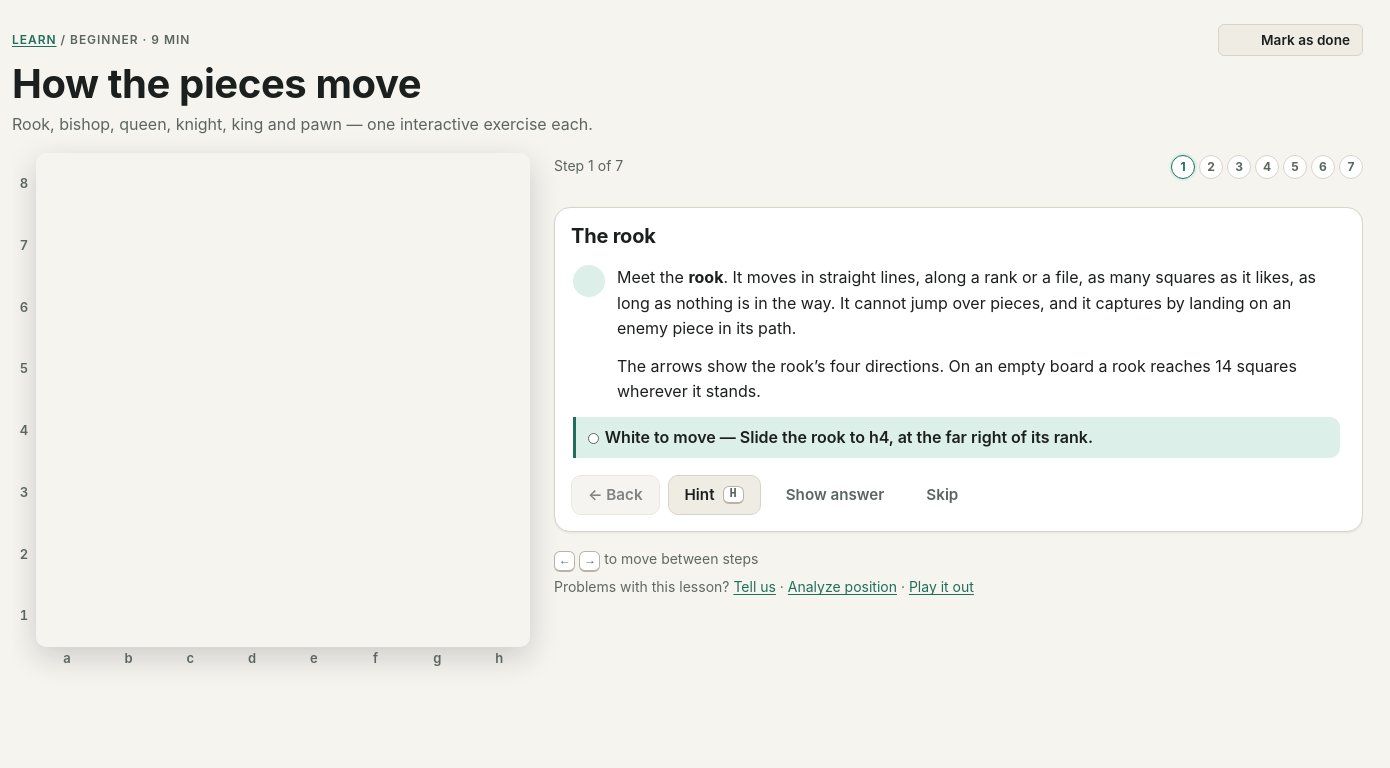
Test case: LessonPage › marks the lesson done from its header, and not done again
The width and height of the screenshot is (1390, 768).
Click the button with test id "lesson-done-toggle" at (1291, 40), box x1=1218 y1=24 x2=1363 y2=56
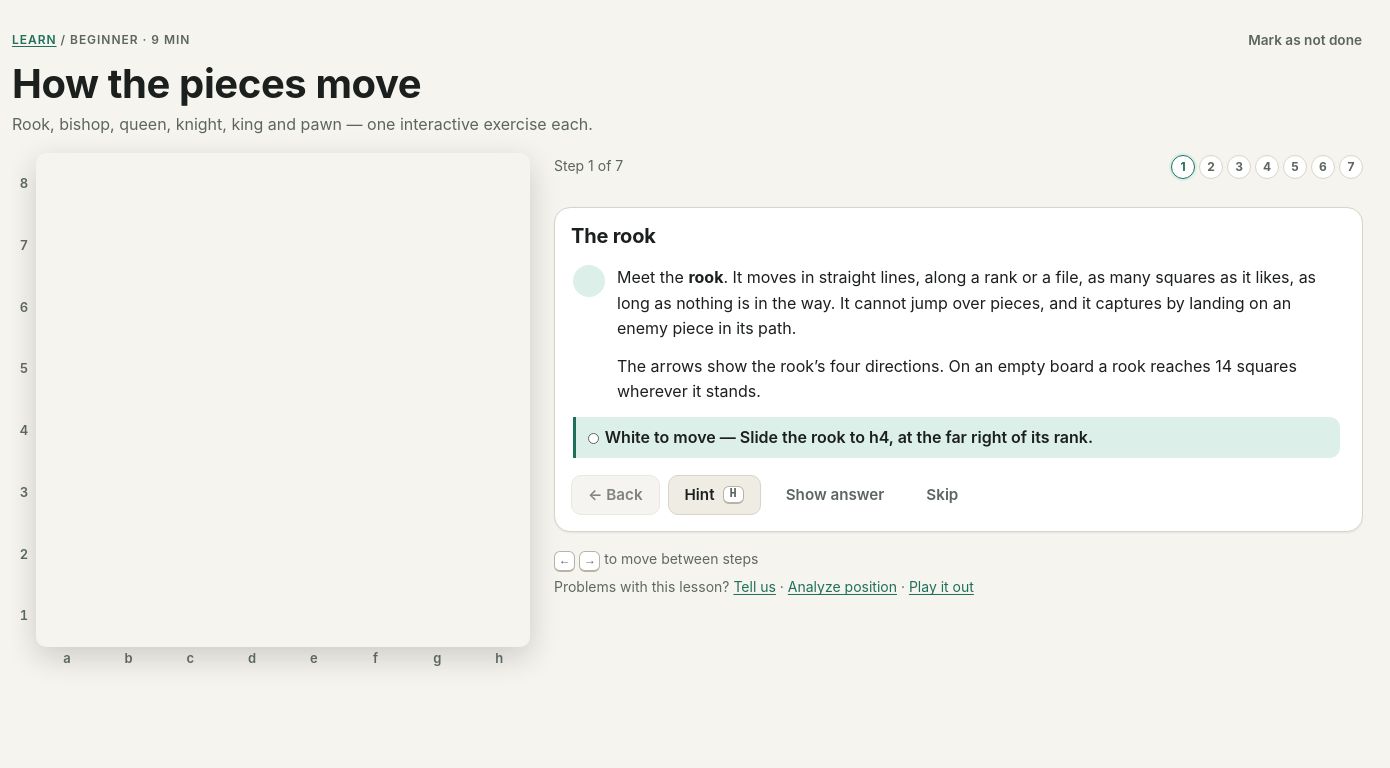
Expected: the button with test id "lesson-done-toggle" reads "Mark as not done"
Click the button with test id "lesson-done-toggle" at (1305, 40), box x1=1235 y1=24 x2=1375 y2=56
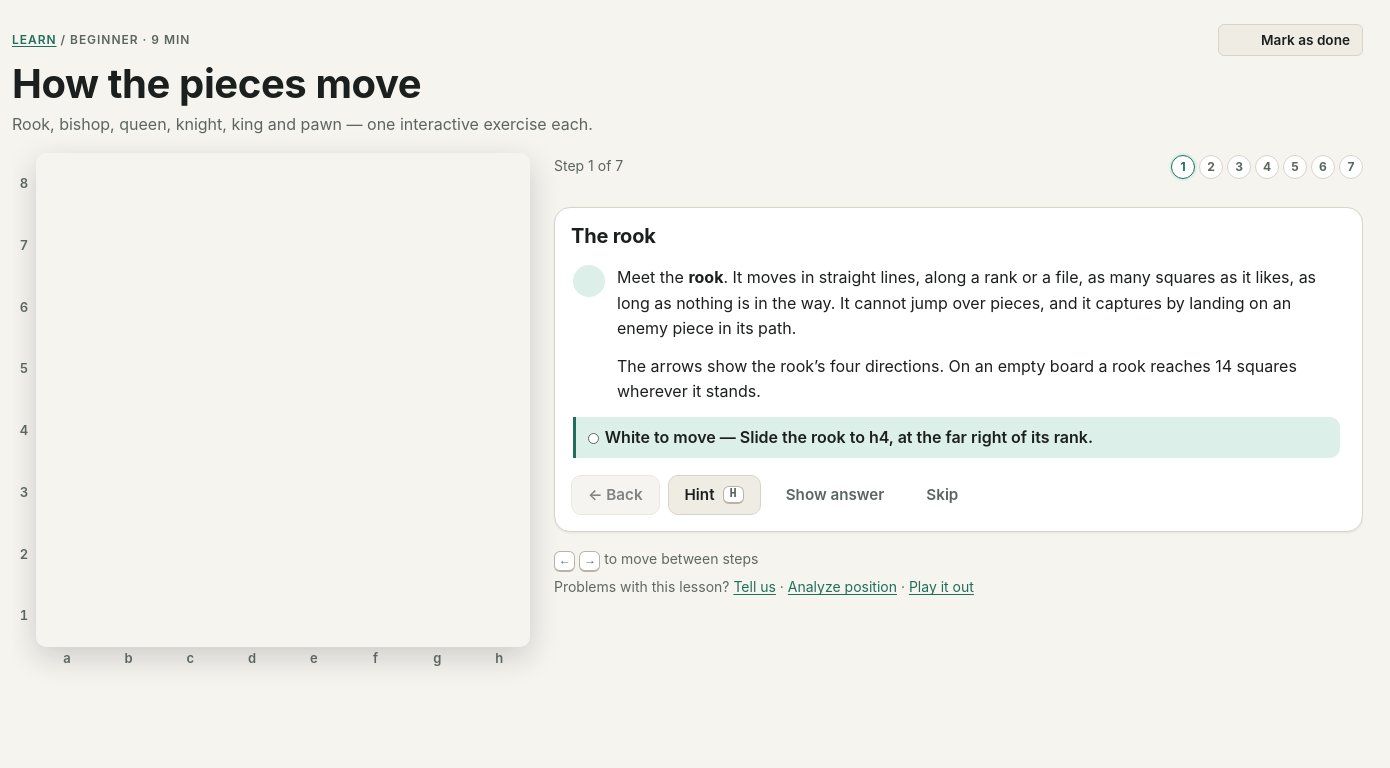
Expected: the button with test id "lesson-done-toggle" reads "Mark as done", x1=1218 y1=24 x2=1363 y2=56
